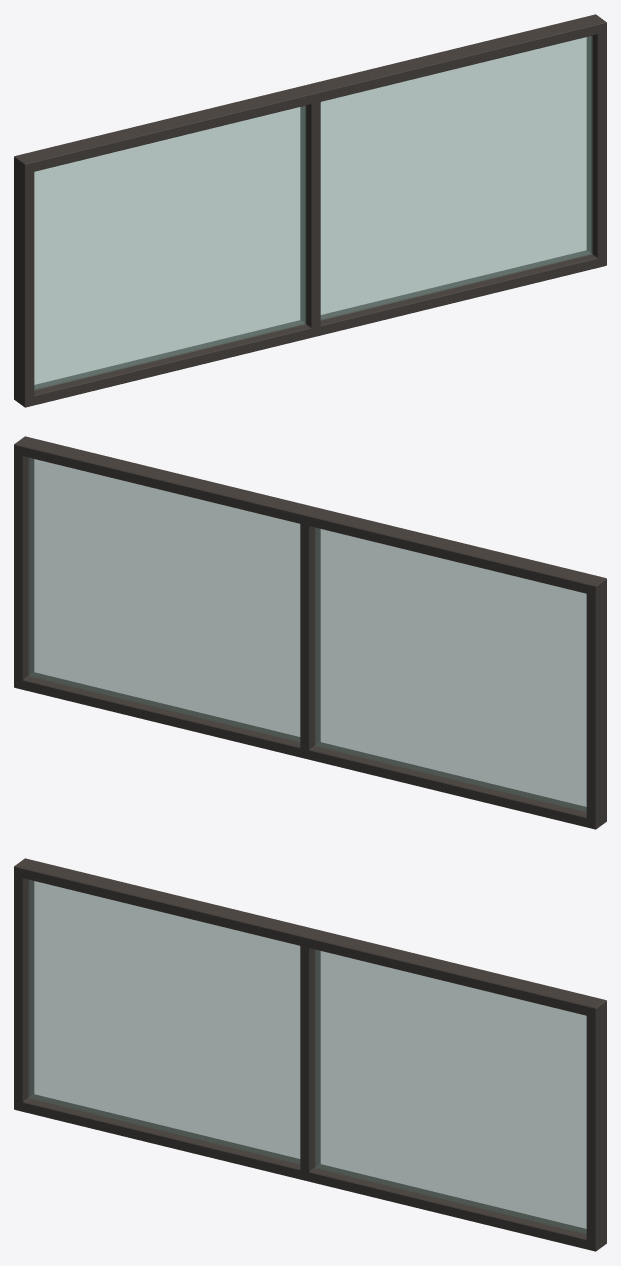
File: arch_window_w300_h120.glb
3 renders of one model, top to bottom at view 1: azimuth 30°, elevation 25°; view 2: azimuth 150°, elevation 25°; view 3: azimuth 330°, elevation 25°, orthographic.
Parts seen in each view (by area): view 1: Glass, Frame; view 2: Glass, Frame; view 3: Glass, Frame.
Boxes of the visible parts, left/top/right/bottom form: Glass: left=34, top=36, right=592, bottom=390; Frame: left=14, top=14, right=606, bottom=407; Glass: left=28, top=458, right=586, bottom=812; Frame: left=14, top=436, right=606, bottom=829; Glass: left=28, top=880, right=586, bottom=1234; Frame: left=14, top=858, right=606, bottom=1251.
Bounding box in the file's own units: 3 × 1.2 × 0.1.
